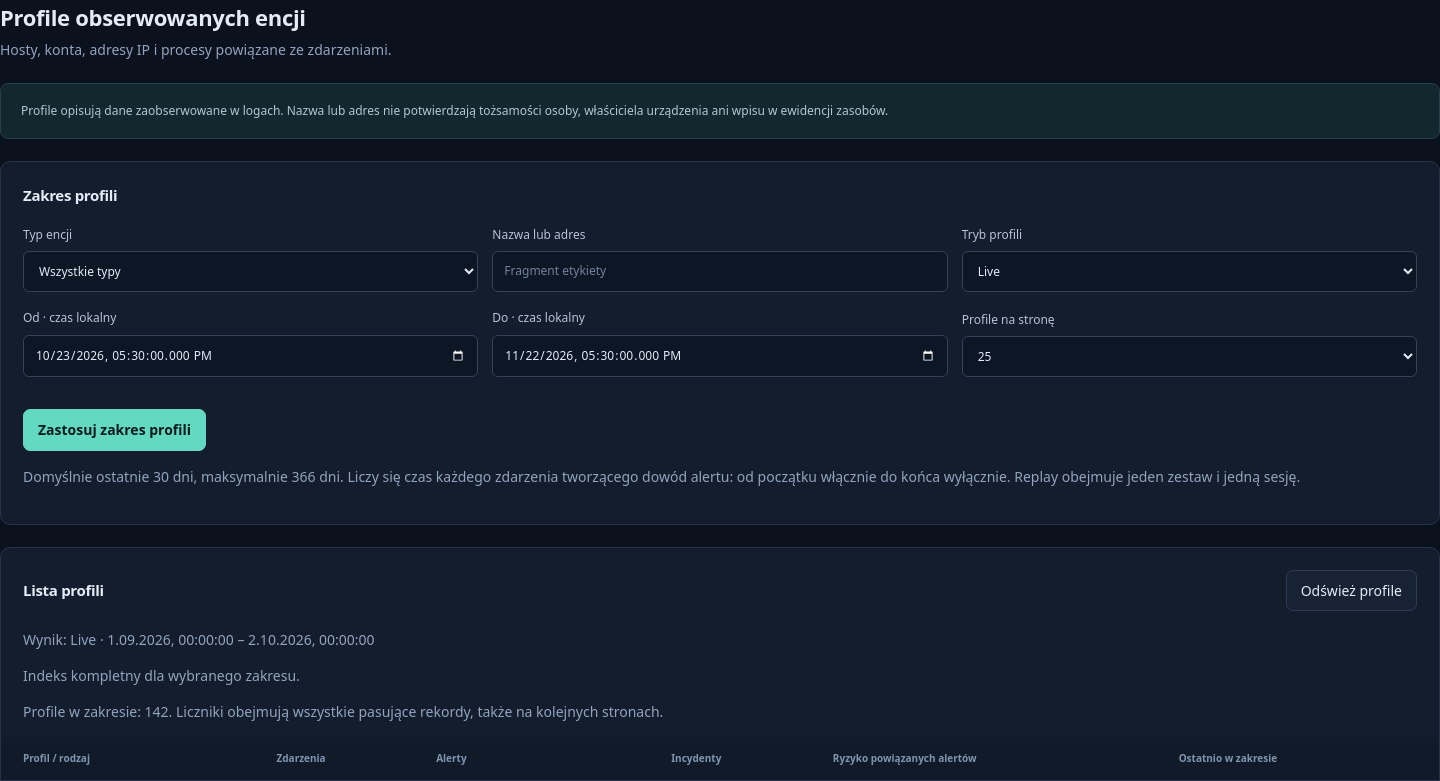
Scenario: rejects an invalid selected window 2026-02-01T00:00 to 2026-01-01T00:00 before querying
Replace the text in the field labelled "Od · czas lokalny" with "2026-02-01T00:00" at (251, 356), box x1=23 y1=335 x2=478 y2=377
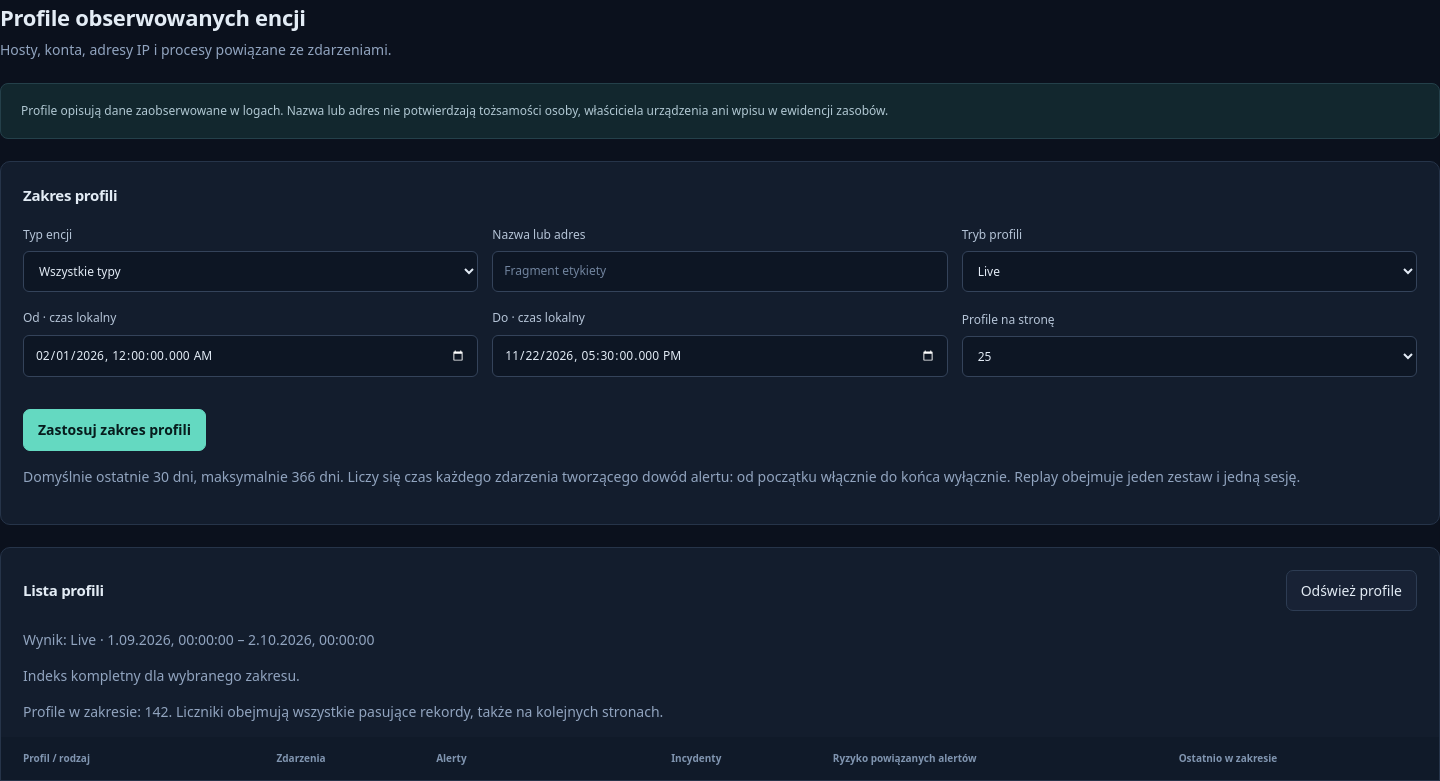
Replace the text in the field labelled "Do · czas lokalny" with "2026-01-01T00:00" at (720, 356), box x1=492 y1=335 x2=948 y2=377
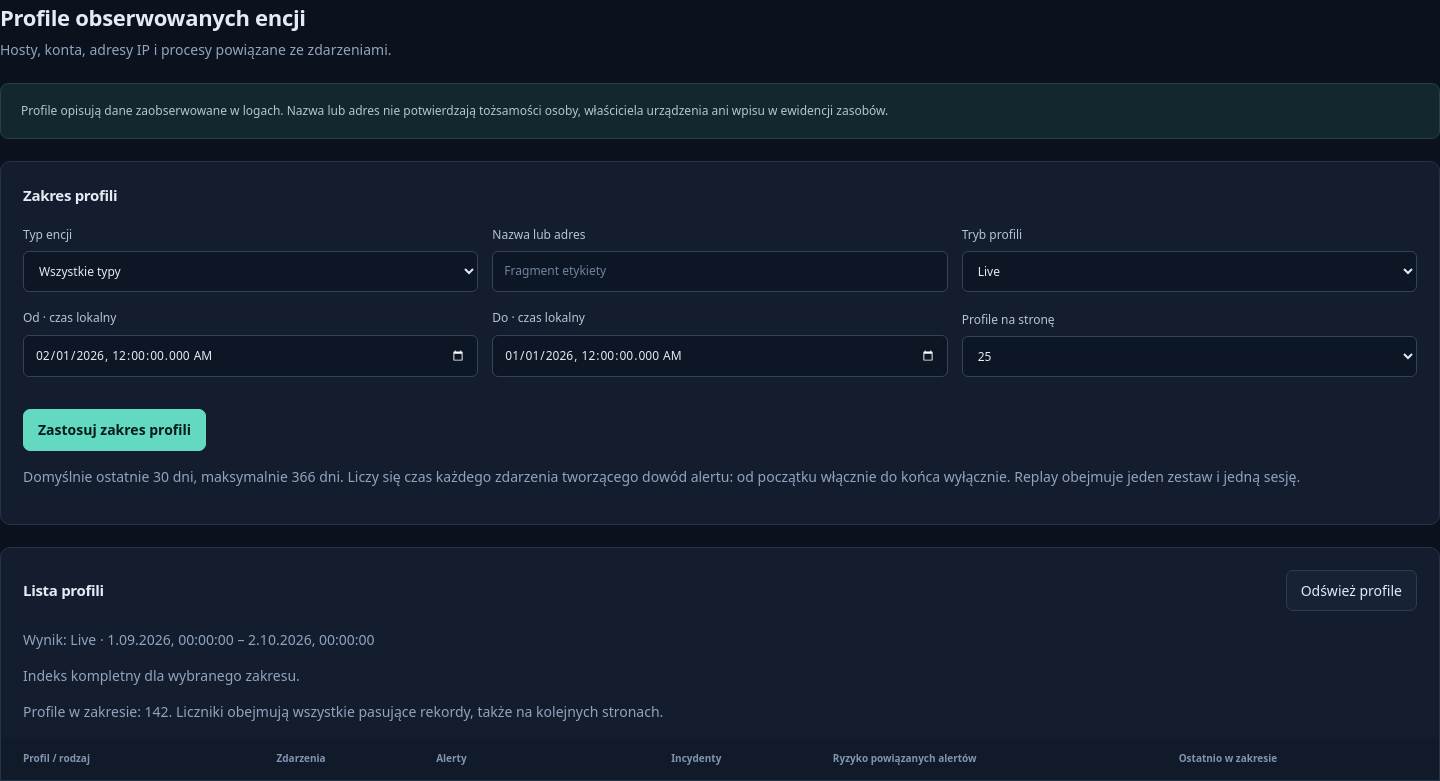
Click the button "Zastosuj zakres profili" at (115, 430), box x1=23 y1=409 x2=206 y2=451
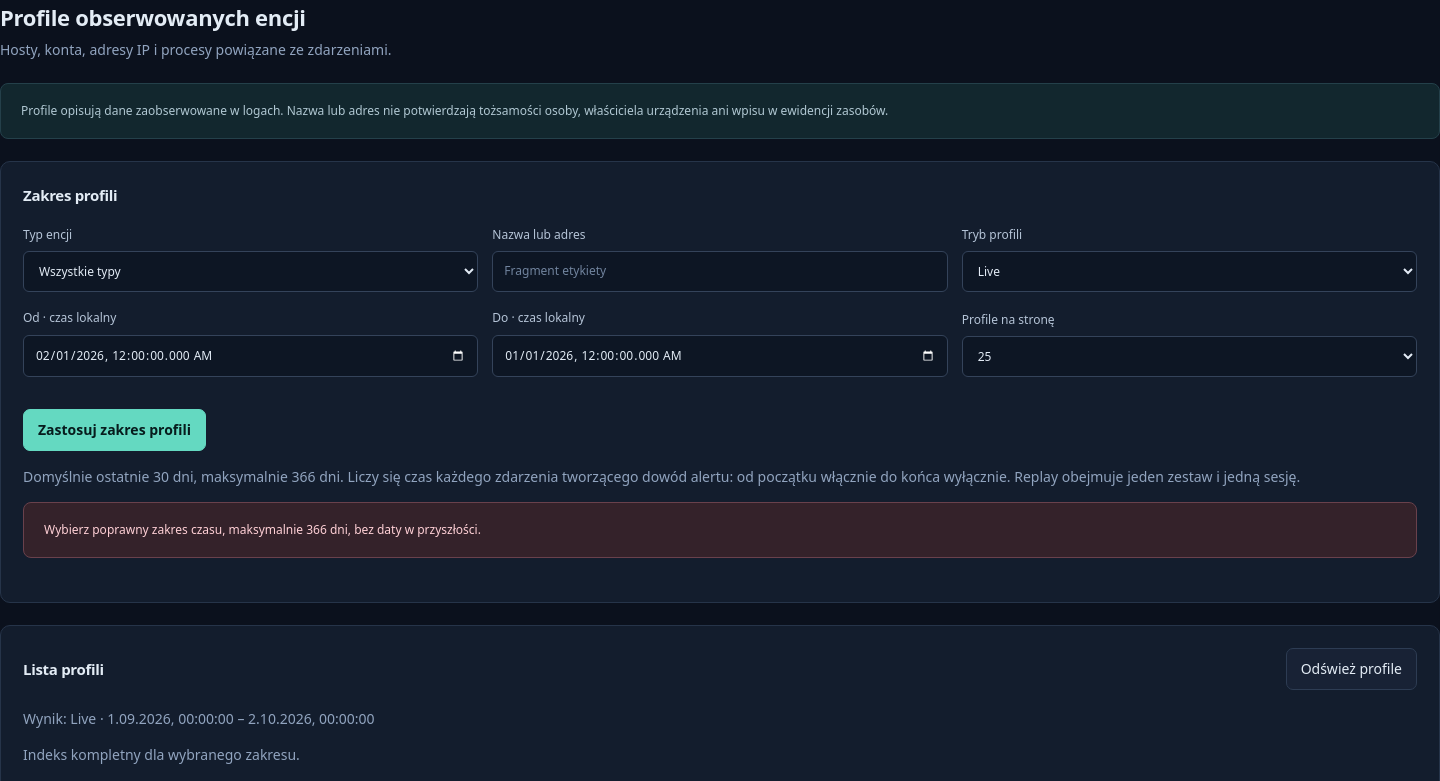
Expected: the message shows "maksymalnie 366 dni", x1=44 y1=521 x2=481 y2=538
